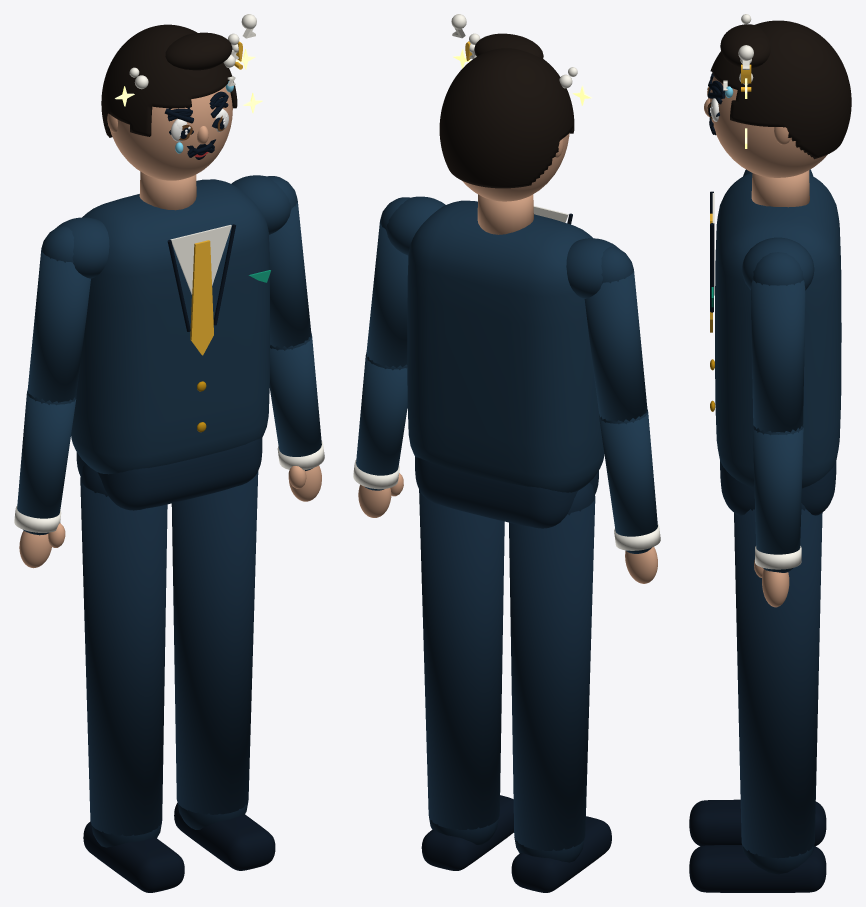
The picture shows the model from 3 angles, left to right: view 1: azimuth 30°, elevation 25°; view 2: azimuth 150°, elevation 25°; view 3: azimuth 270°, elevation 25°; orthographic projection. The views are drawn at different scales.
Parts seen in each view (by area): view 1: Torso, Leg -1, Leg 1, Hair, Upper arm L, Hips, Forearm L, Skull, Forearm R, Upper arm R, Shoe -1, Shoe 1 (+13 smaller); view 2: Torso, Leg -1, Leg 1, Hair, Upper arm L, Hips, Forearm L, Forearm R, Upper arm R, Shoe -1, Shoe 1, Shoulder -1 (+11 smaller); view 3: Leg 1, Torso, Hair, Upper arm R, Forearm R, Shoe 1, Skull, Shoe -1, Hips, Neck, Shoulder 1, Quiff (+4 smaller).
Part boxes in pixels (<box>): Torso: <box>71,179,270,474</box>; Leg -1: <box>80,477,167,836</box>; Leg 1: <box>171,471,258,814</box>; Hair: <box>101,24,237,137</box>; Upper arm L: <box>27,249,90,402</box>; Hips: <box>76,438,262,510</box>; Forearm L: <box>17,393,76,518</box>; Skull: <box>110,86,232,180</box>; Forearm R: <box>269,334,321,456</box>; Upper arm R: <box>269,199,311,348</box>; Shoe -1: <box>83,821,184,892</box>; Shoe 1: <box>174,803,275,870</box>; Torso: <box>407,200,604,492</box>; Leg -1: <box>509,496,595,850</box>; Leg 1: <box>419,489,504,829</box>; Hair: <box>439,48,574,188</box>; Upper arm L: <box>584,270,647,421</box>; Hips: <box>415,456,598,528</box>; Forearm L: <box>599,412,657,536</box>; Forearm R: <box>356,355,407,475</box>; Upper arm R: <box>366,220,408,367</box>; Shoe -1: <box>511,816,611,892</box>; Shoe 1: <box>421,795,513,870</box>; Shoulder -1: <box>566,238,619,298</box>; Leg 1: <box>734,509,822,858</box>; Torso: <box>715,172,841,488</box>; Hair: <box>710,20,851,159</box>; Upper arm R: <box>751,280,805,432</box>; Forearm R: <box>752,427,803,554</box>; Shoe 1: <box>689,845,826,892</box>; Skull: <box>710,76,827,177</box>; Shoe -1: <box>689,799,826,846</box>; Hips: <box>720,460,836,515</box>; Neck: <box>751,170,809,207</box>; Shoulder 1: <box>742,237,814,290</box>; Quiff: <box>720,24,770,68</box>.
Bounding box in the file's own units: 0.7051 × 1.85 × 0.3193.
